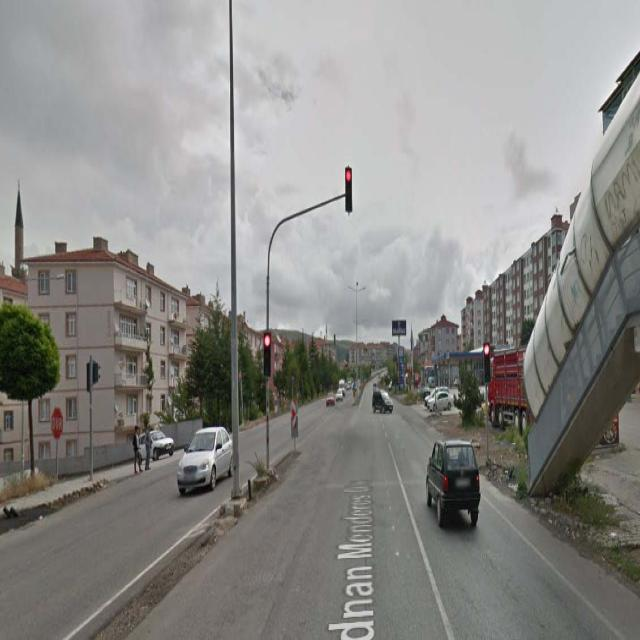dur: (51, 406, 62, 441)
kirmizi: (264, 332, 271, 376), (484, 344, 491, 383), (346, 168, 352, 210)
